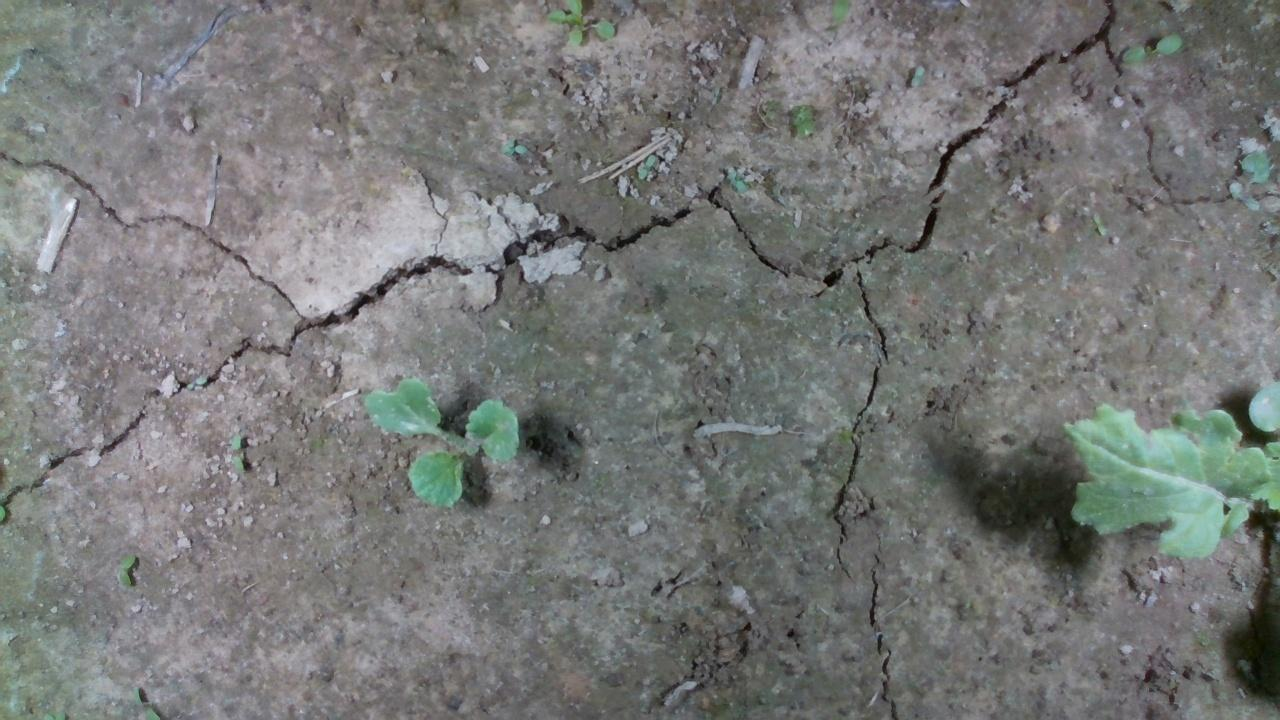weed: (720, 160, 778, 203), (105, 553, 146, 594), (220, 432, 252, 482), (498, 134, 526, 161)
